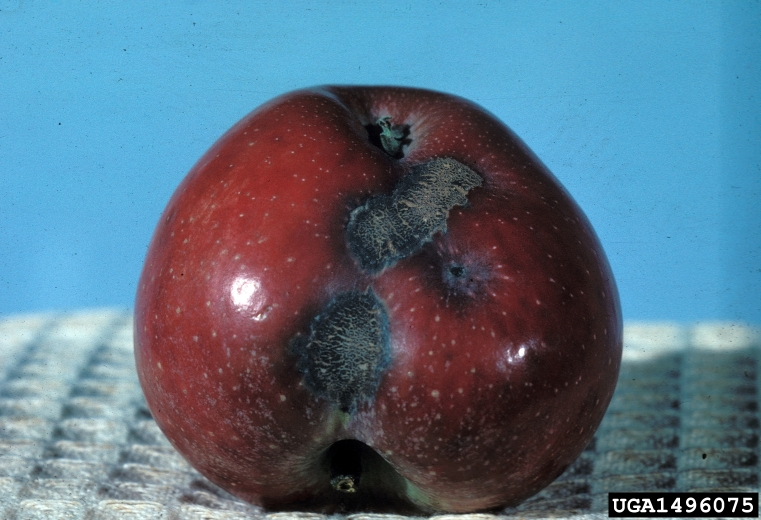defect: (296, 162, 510, 410)
